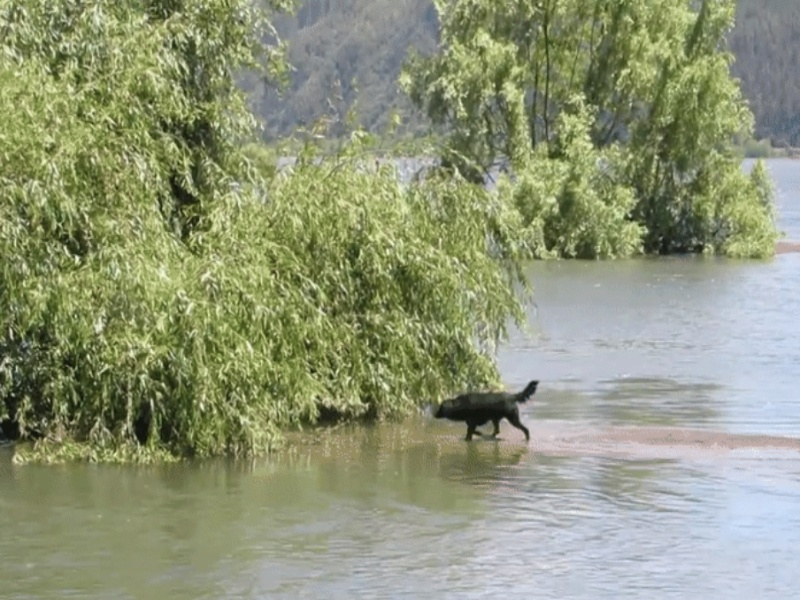dog: (430, 380, 541, 446)
